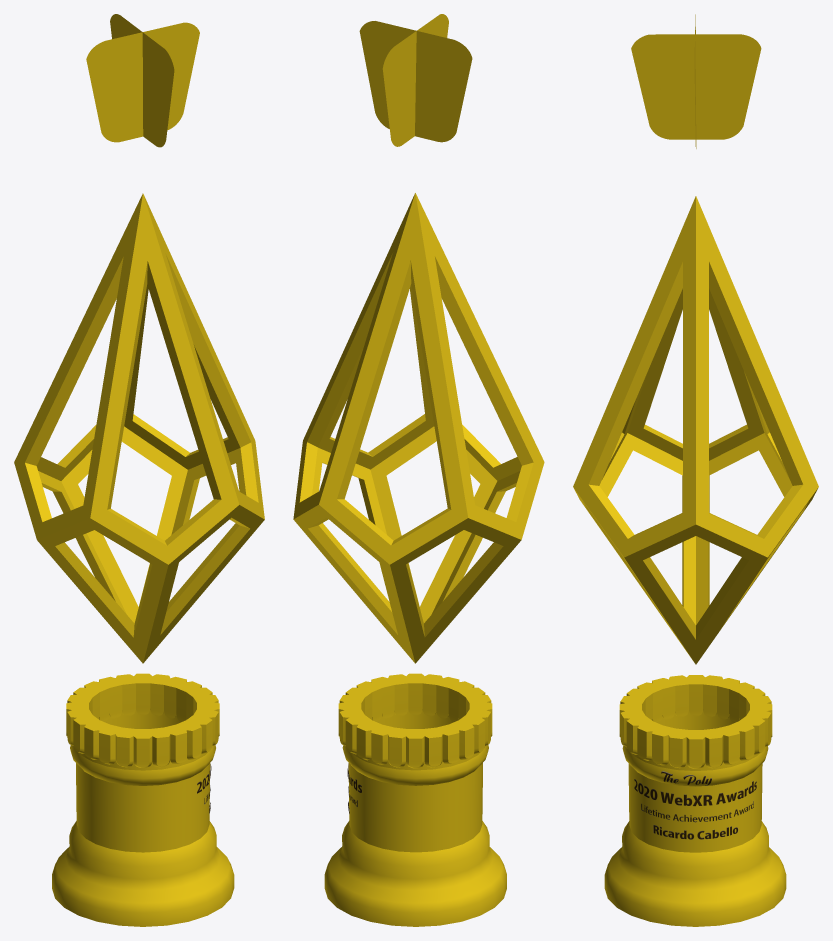
The model's file is LIfetime3.glb.
3 views of the same model, side by side, from view 1: azimuth 30°, elevation 25°; view 2: azimuth 150°, elevation 25°; view 3: azimuth 270°, elevation 25° (orthographic).
Parts seen in each view (by area): view 1: Diamond, Base, Crown; view 2: Diamond, Base, Crown; view 3: Diamond, Base, Crown, Engravings.
Boxes of the visible parts, x1=… form: Diamond: x1=14, y1=193, x2=264, y2=663; Base: x1=52, y1=673, x2=234, y2=926; Crown: x1=86, y1=14, x2=199, y2=147; Diamond: x1=293, y1=193, x2=544, y2=663; Base: x1=324, y1=673, x2=506, y2=926; Crown: x1=359, y1=14, x2=472, y2=146; Diamond: x1=573, y1=196, x2=818, y2=664; Base: x1=604, y1=675, x2=786, y2=926; Crown: x1=631, y1=14, x2=761, y2=148; Engravings: x1=634, y1=771, x2=756, y2=839.
Bounding box in the file's own units: 0.6616 × 2.48 × 0.6471.
Materials: 3 (2 with a texture image).
